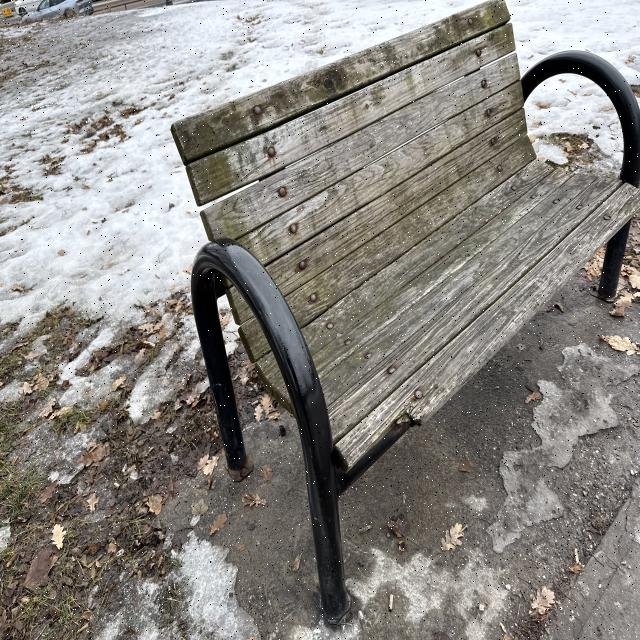Bench: (169, 31, 558, 614)
